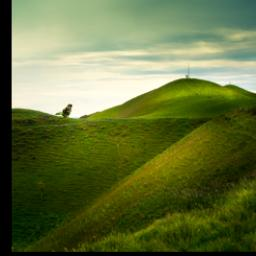Sparrow: (55, 104, 72, 124)
